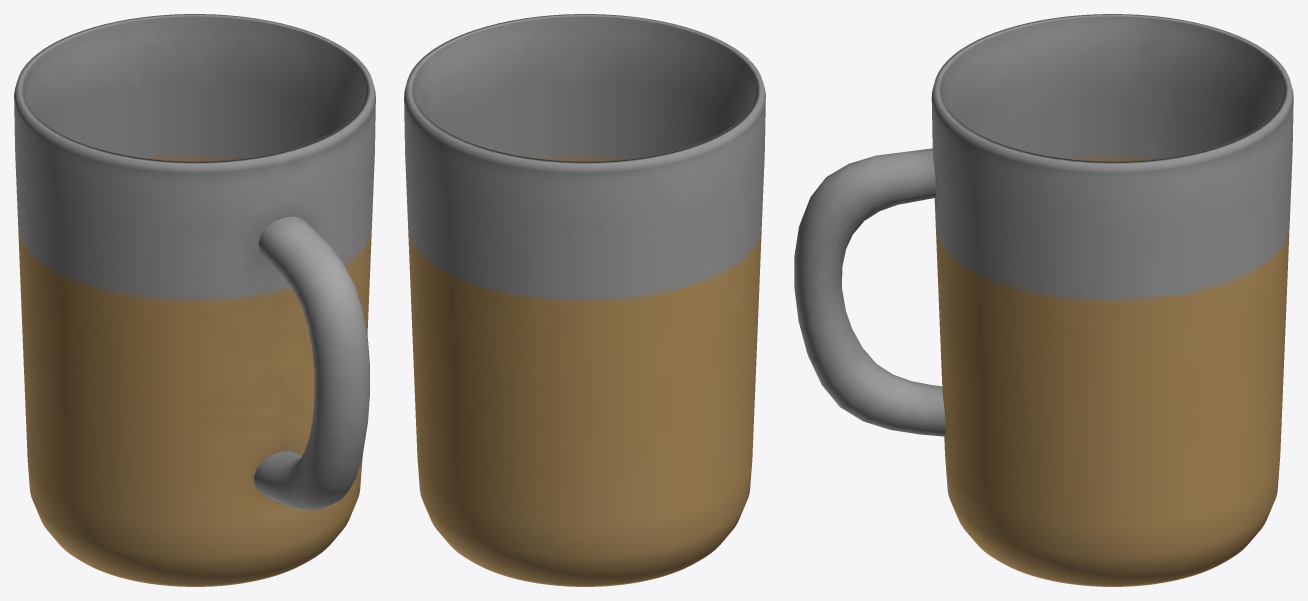
Rendered from SM_Cup.fbx.
3 views of the same model, side by side, from view 1: azimuth 30°, elevation 25°; view 2: azimuth 150°, elevation 25°; view 3: azimuth 270°, elevation 25° (orthographic).
Parts seen in each view (by area): view 1: SM_Cup_LOD0; view 2: SM_Cup_LOD0; view 3: SM_Cup_LOD0.
Part boxes in pixels (bbox=[...]): SM_Cup_LOD0: bbox=[14, 14, 375, 586]; SM_Cup_LOD0: bbox=[404, 14, 765, 586]; SM_Cup_LOD0: bbox=[794, 14, 1293, 586].
Bounding box in the file's own units: 7.04 × 9.72 × 9.72.
1 material, 1 textured.
